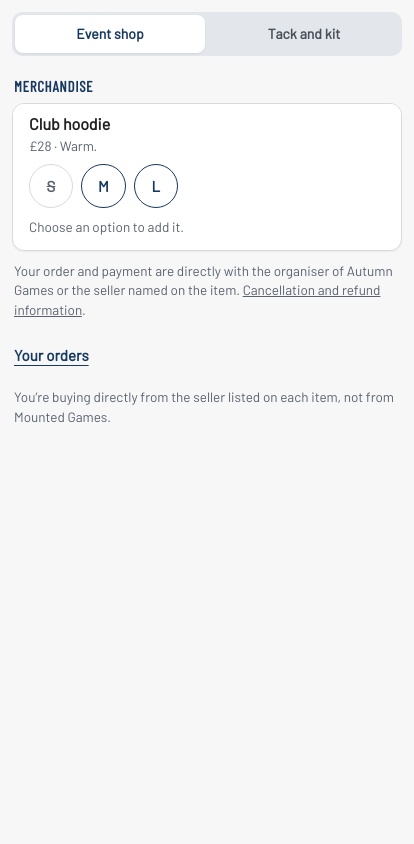
Test case: Event shop: options › orders one line per option
Click the radio button labelled "M" at (103, 186), box [81, 164, 126, 208]
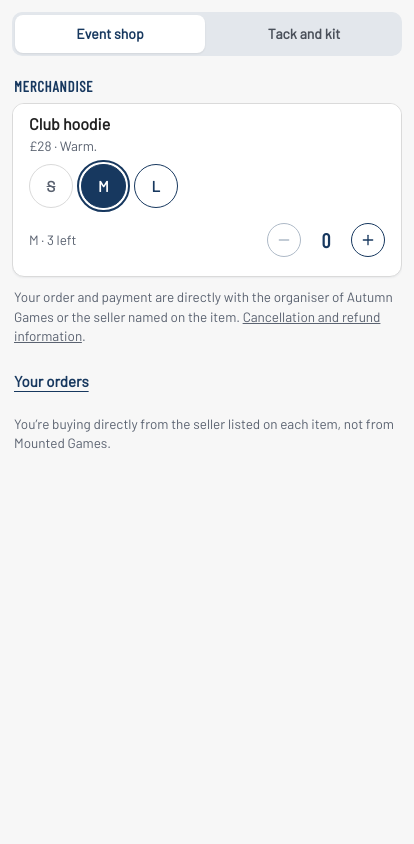
Click the button named "Add one Club hoodie M" at (368, 240), box [351, 223, 385, 257]
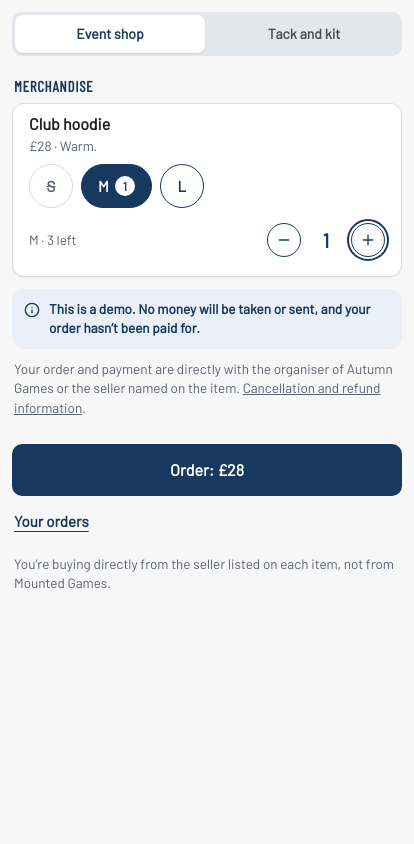
Click the radio button labelled "L" at (182, 186), box [160, 164, 204, 208]
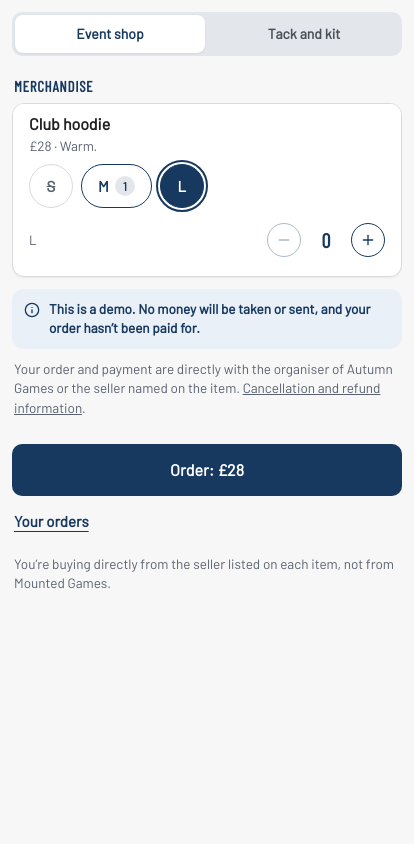
Click the button named "Add one Club hoodie L" at (368, 240), box [351, 223, 385, 257]
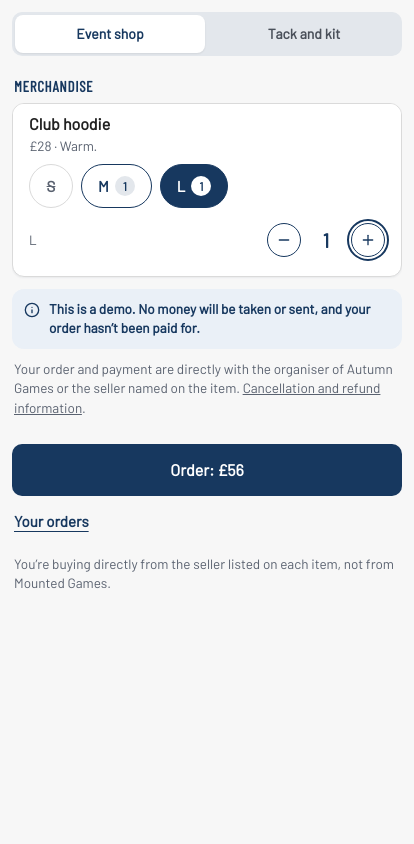
Click the button "Order: £56" at (207, 470), box [12, 444, 402, 496]
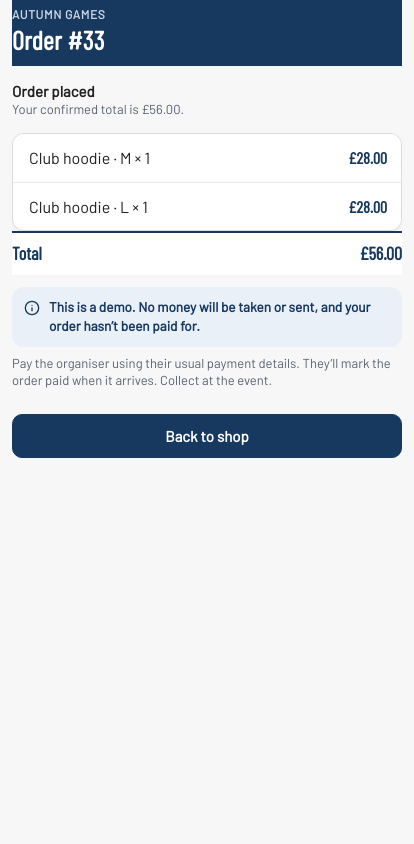
Expected: the text "Club hoodie · M × 1" is shown, [29, 148, 150, 167]
Expected: the text "Club hoodie · L × 1" is shown, [29, 197, 148, 216]
